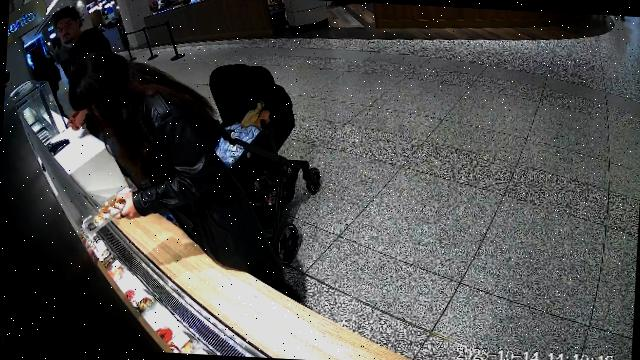sushi-box: (82, 186, 138, 236)
